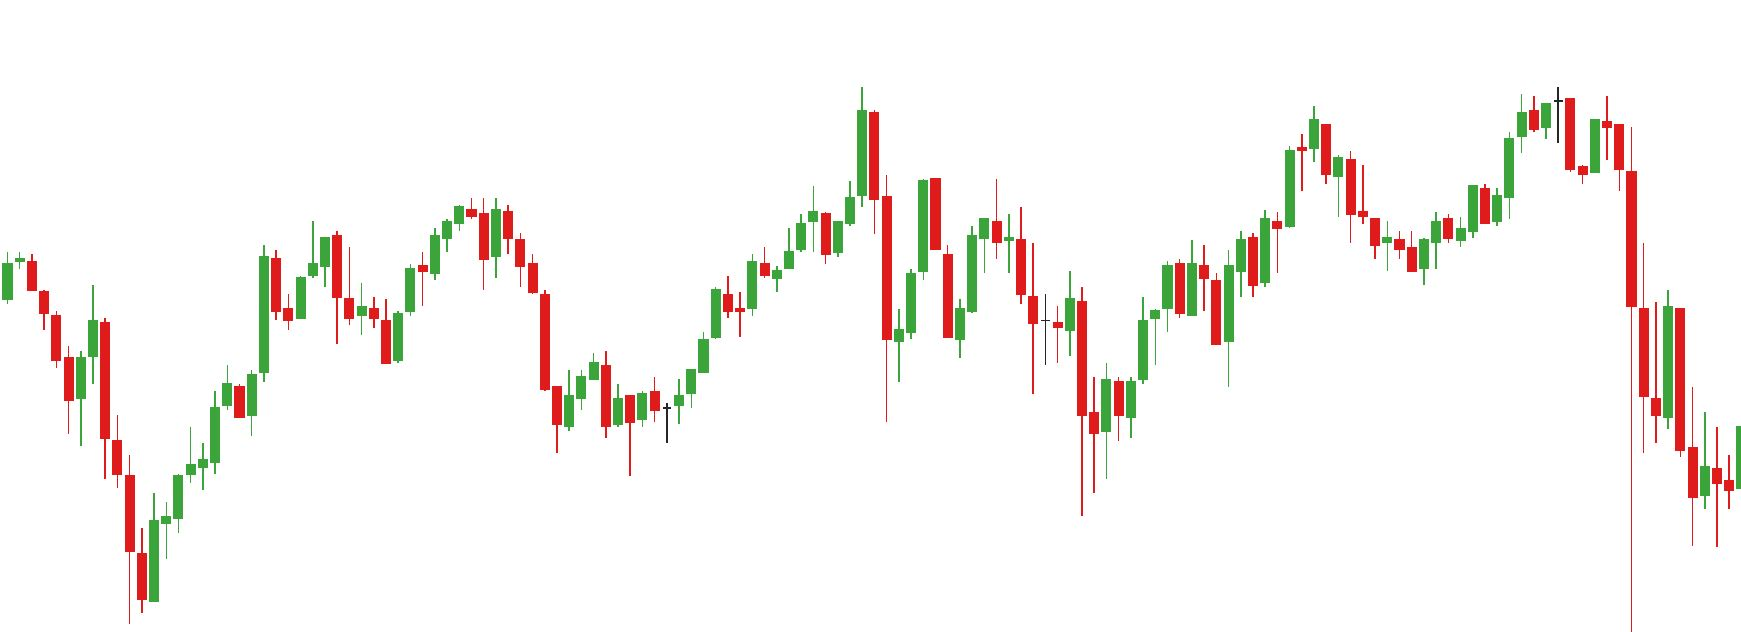buy: (1149, 281, 1235, 383)
sell: (1306, 94, 1539, 201)
